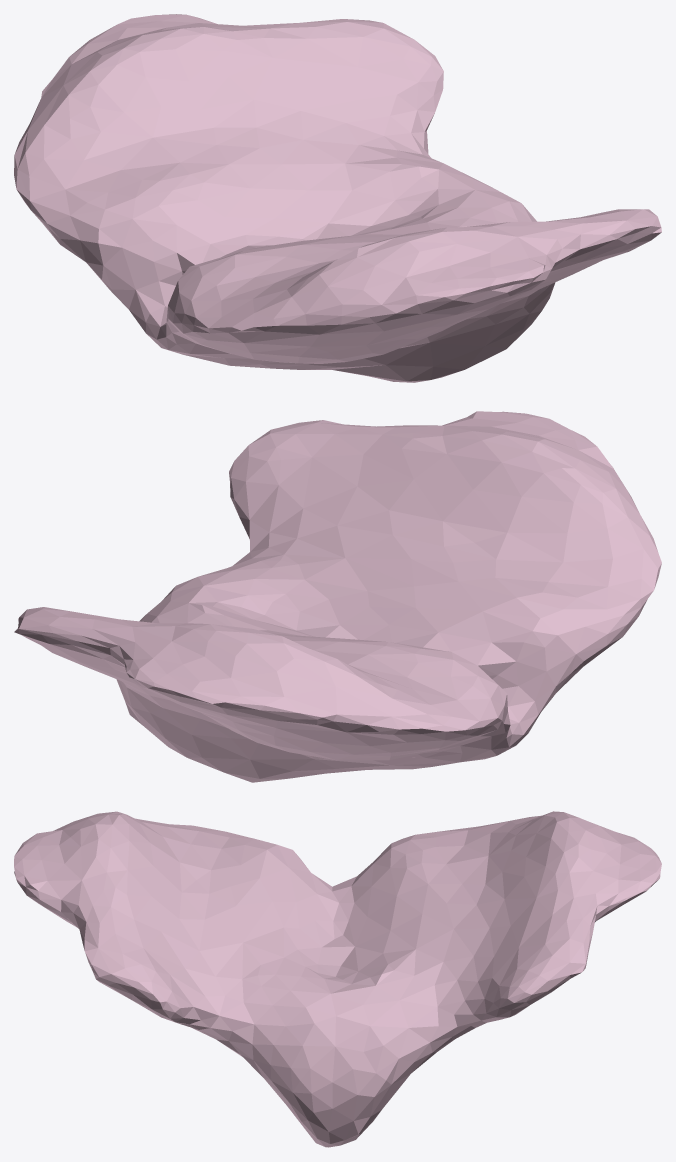
3 views of the same model, one above another, from view 1: azimuth 30°, elevation 25°; view 2: azimuth 150°, elevation 25°; view 3: azimuth 270°, elevation 25° (orthographic). The views are drawn at different scales.
Visible parts, largest first — view 1: 83.obj; view 2: 83.obj; view 3: 83.obj.
Boxes of the visible parts, box(x1,y1,x2,y2) form: 83.obj: box(14, 14, 661, 382); 83.obj: box(14, 411, 661, 782); 83.obj: box(14, 811, 661, 1147).
Size of the model in its own units: 1369 by 819 by 2011.
